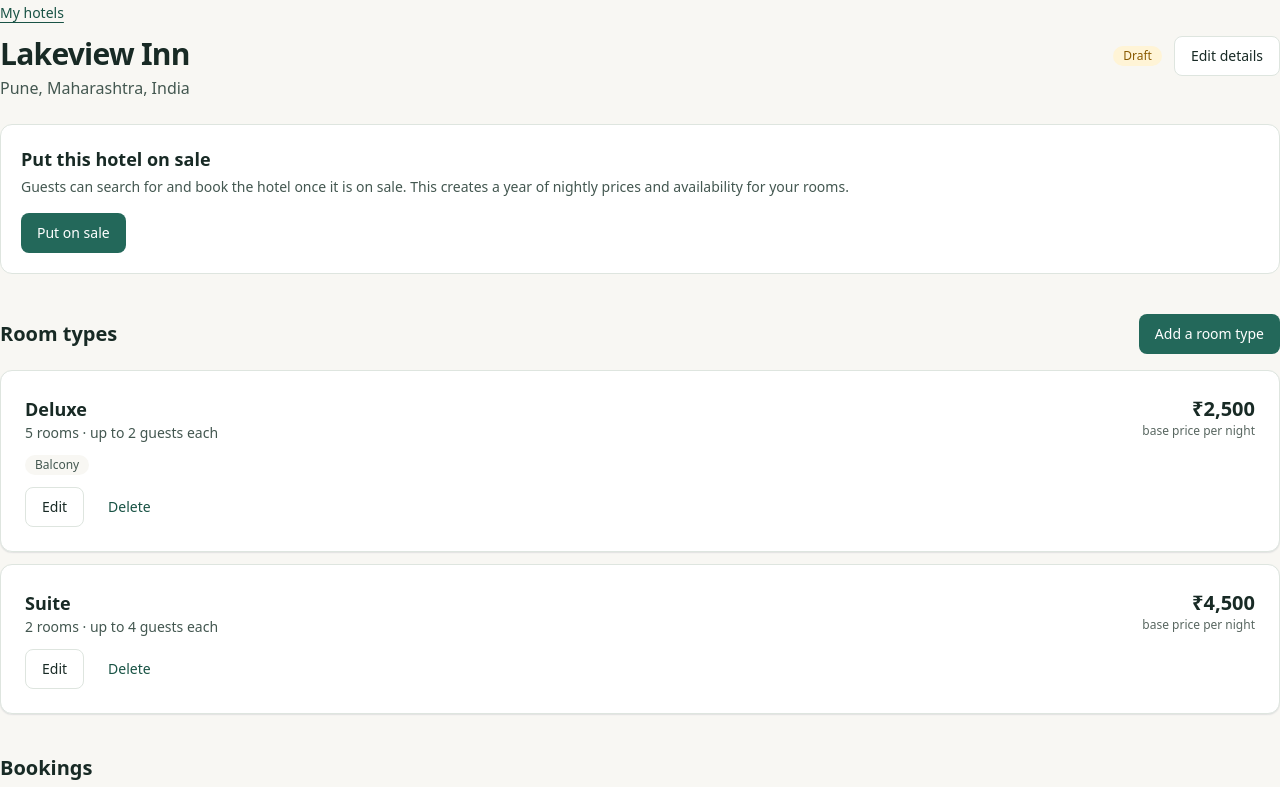
Test case: a draft hotel › shows why putting it on sale failed
This screenshot has width=1280, height=787.
Click the button "Put on sale" at [73, 233], box top-left (21, 213), bottom-right (126, 253)
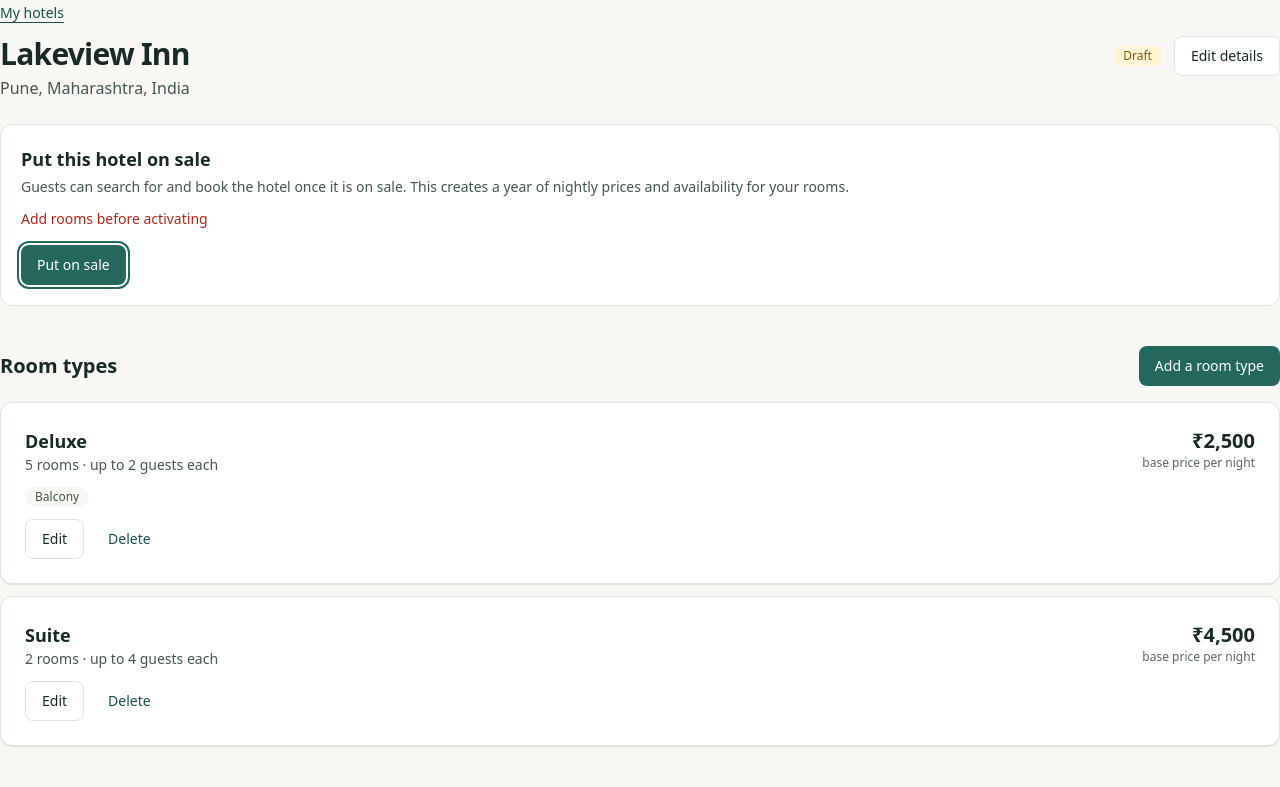
Result: the message reads "Add rooms before activating" at top-left (21, 209), bottom-right (208, 228)
